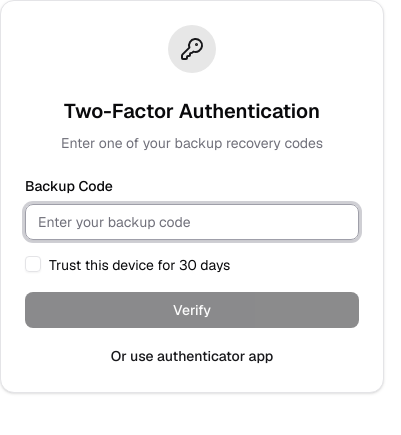
Test: 2FA Verification Components › BackupCodeVerificationForm › displays field error on invalid backup code
The image size is (401, 435).
Type "INVALID" into the field with placeholder "Enter your backup code" at (192, 222), box top-left (25, 204), bottom-right (359, 240)
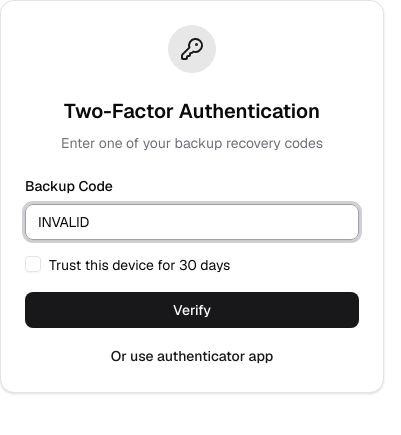
Click the button "Verify" at (192, 310), box top-left (25, 292), bottom-right (359, 328)
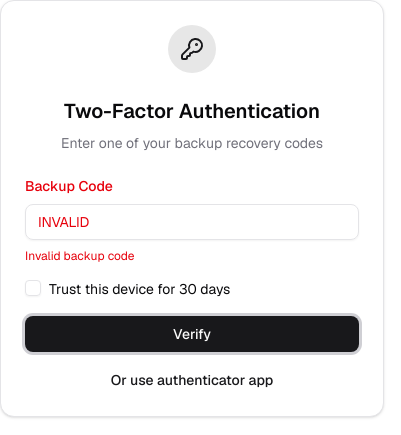
expect the text "Invalid backup code" is shown: met, box top-left (25, 248), bottom-right (135, 264)
